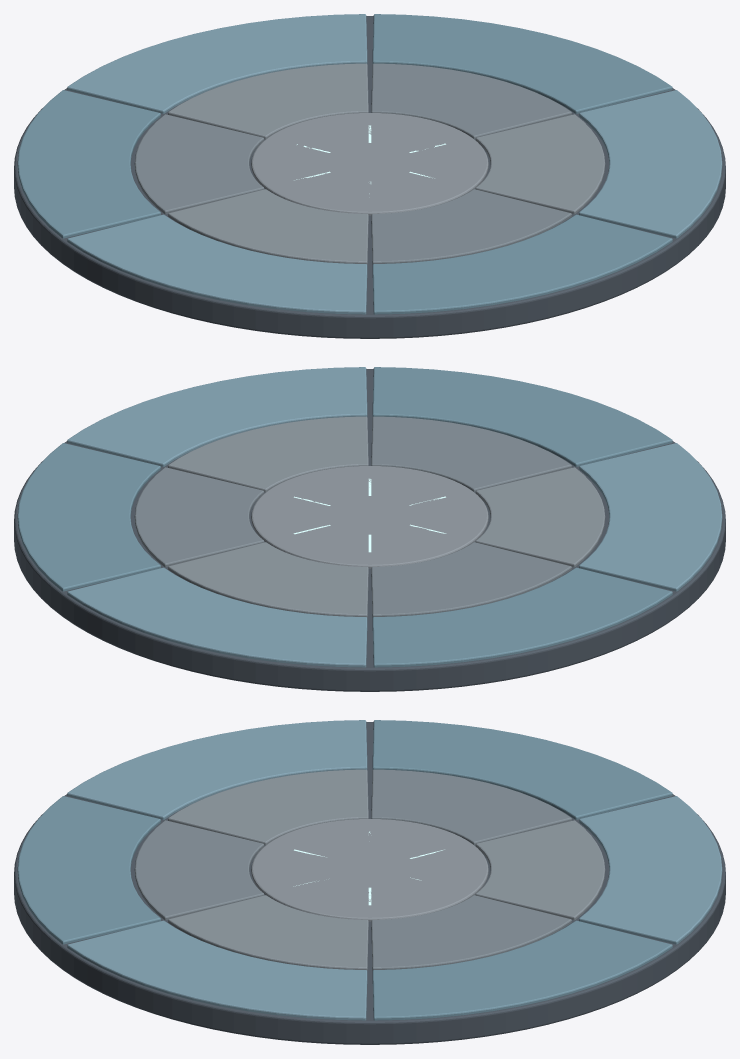
Rendered from Arena_Circular.fbx.
The picture shows the model from 3 angles, top to bottom: view 1: azimuth 30°, elevation 25°; view 2: azimuth 150°, elevation 25°; view 3: azimuth 270°, elevation 25°; orthographic projection.
Parts seen in each view (by area): view 1: Arena_Base, Arena_Centro, Arena_AnelExterno_Setor_04, Arena_AnelExterno_Setor_05, Arena_AnelExterno_Setor_01, Arena_AnelExterno_Setor_02, Arena_AnelExterno_Setor_03, Arena_AnelExterno_Setor_06, Arena_AnelInterno_Setor_04, Arena_AnelInterno_Setor_05, Arena_AnelInterno_Setor_01, Arena_AnelInterno_Setor_02 (+2 smaller); view 2: Arena_Base, Arena_Centro, Arena_AnelExterno_Setor_02, Arena_AnelExterno_Setor_03, Arena_AnelExterno_Setor_05, Arena_AnelExterno_Setor_06, Arena_AnelExterno_Setor_01, Arena_AnelExterno_Setor_04, Arena_AnelInterno_Setor_02, Arena_AnelInterno_Setor_03, Arena_AnelInterno_Setor_05, Arena_AnelInterno_Setor_06 (+2 smaller); view 3: Arena_Base, Arena_Centro, Arena_AnelExterno_Setor_01, Arena_AnelExterno_Setor_06, Arena_AnelExterno_Setor_03, Arena_AnelExterno_Setor_04, Arena_AnelExterno_Setor_02, Arena_AnelExterno_Setor_05, Arena_AnelInterno_Setor_01, Arena_AnelInterno_Setor_06, Arena_AnelInterno_Setor_03, Arena_AnelInterno_Setor_04 (+2 smaller).
Boxes of the visible parts, left/top/right/bottom form: Arena_Base: left=14, top=16, right=725, bottom=338; Arena_Centro: left=251, top=113, right=488, bottom=215; Arena_AnelExterno_Setor_04: left=67, top=214, right=367, bottom=314; Arena_AnelExterno_Setor_05: left=372, top=214, right=672, bottom=314; Arena_AnelExterno_Setor_01: left=372, top=14, right=672, bottom=113; Arena_AnelExterno_Setor_02: left=67, top=14, right=367, bottom=113; Arena_AnelExterno_Setor_03: left=17, top=90, right=160, bottom=238; Arena_AnelExterno_Setor_06: left=579, top=90, right=722, bottom=238; Arena_AnelInterno_Setor_04: left=168, top=189, right=368, bottom=264; Arena_AnelInterno_Setor_05: left=371, top=189, right=571, bottom=264; Arena_AnelInterno_Setor_01: left=371, top=63, right=571, bottom=139; Arena_AnelInterno_Setor_02: left=168, top=63, right=368, bottom=139; Arena_Base: left=14, top=369, right=725, bottom=691; Arena_Centro: left=251, top=466, right=488, bottom=568; Arena_AnelExterno_Setor_02: left=67, top=567, right=367, bottom=667; Arena_AnelExterno_Setor_03: left=372, top=567, right=672, bottom=667; Arena_AnelExterno_Setor_05: left=372, top=367, right=672, bottom=466; Arena_AnelExterno_Setor_06: left=67, top=367, right=367, bottom=466; Arena_AnelExterno_Setor_01: left=17, top=443, right=160, bottom=591; Arena_AnelExterno_Setor_04: left=579, top=443, right=722, bottom=591; Arena_AnelInterno_Setor_02: left=168, top=542, right=368, bottom=617; Arena_AnelInterno_Setor_03: left=371, top=542, right=571, bottom=617; Arena_AnelInterno_Setor_05: left=371, top=416, right=571, bottom=492; Arena_AnelInterno_Setor_06: left=168, top=416, right=368, bottom=492; Arena_Base: left=14, top=722, right=725, bottom=1044; Arena_Centro: left=251, top=819, right=488, bottom=921; Arena_AnelExterno_Setor_01: left=372, top=920, right=672, bottom=1020; Arena_AnelExterno_Setor_06: left=67, top=920, right=367, bottom=1020; Arena_AnelExterno_Setor_03: left=372, top=720, right=672, bottom=819; Arena_AnelExterno_Setor_04: left=67, top=720, right=367, bottom=819; Arena_AnelExterno_Setor_02: left=579, top=796, right=722, bottom=944; Arena_AnelExterno_Setor_05: left=17, top=796, right=160, bottom=944; Arena_AnelInterno_Setor_01: left=371, top=895, right=571, bottom=970; Arena_AnelInterno_Setor_06: left=168, top=895, right=368, bottom=970; Arena_AnelInterno_Setor_03: left=371, top=769, right=571, bottom=845; Arena_AnelInterno_Setor_04: left=168, top=769, right=368, bottom=845.
Size of the model in its own units: 2400 by 100 by 2400.
